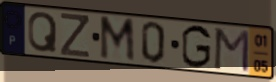0: (140, 20, 168, 66)
G: (180, 24, 213, 71)
M: (98, 15, 137, 65), (212, 26, 251, 74)
Q: (27, 10, 59, 54)
Z: (59, 11, 91, 59)
